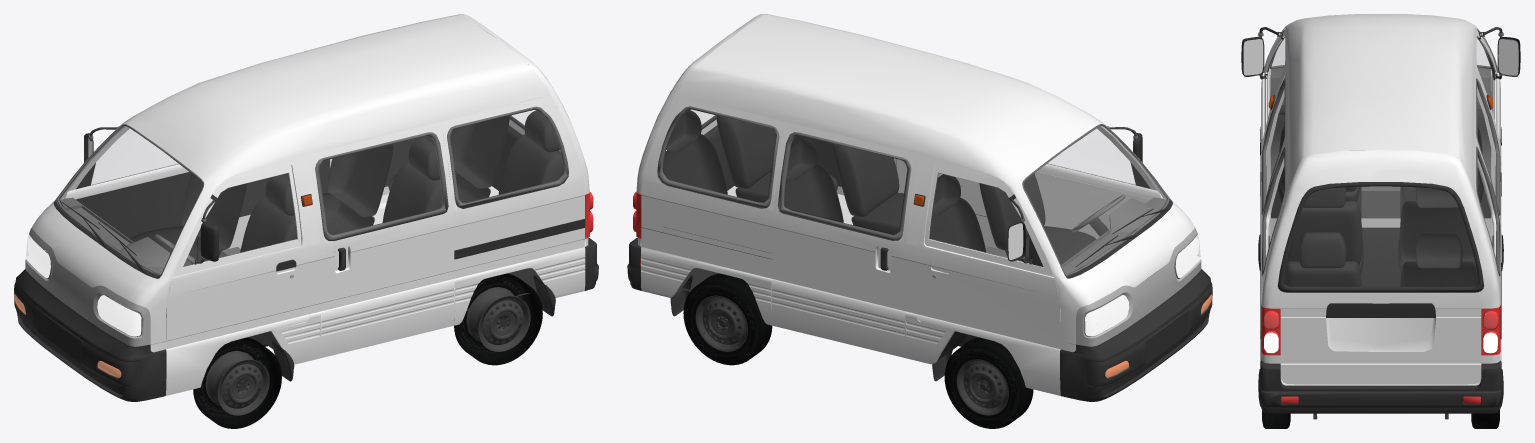
Rendered from chevrolet-damas.glb.
3 renders of one model, left to right at view 1: azimuth 30°, elevation 25°; view 2: azimuth 150°, elevation 25°; view 3: azimuth 270°, elevation 25°, orthographic. The views are drawn at different scales.
Parts seen in each view (by area): view 1: Object_13, Object_12, Object_17, Object_15, Object_19, Object_14, Object_11, Object_22, Object_27, Object_21, Object_25, Object_18 (+2 smaller); view 2: Object_13, Object_12, Object_17, Object_15, Object_19, Object_11, Object_22, Object_21, Object_18, Object_25, Object_23, Object_27 (+3 smaller); view 3: Object_13, Object_12, Object_17, Object_15, Object_19, Object_22, Object_14, Object_18, Object_2, Object_3, Object_23, Object_11 (+2 smaller).
Boxes of the visible parts, x1,y1,x2,y2 form: Object_13: (32,14,588,364); Object_12: (63,14,589,395); Object_17: (26,110,562,335); Object_15: (130,110,563,264); Object_19: (14,115,598,401); Object_14: (76,125,563,238); Object_11: (193,273,542,428); Object_22: (29,106,568,336); Object_27: (205,197,530,415); Object_21: (25,228,293,346); Object_25: (221,300,523,408); Object_18: (56,197,240,336); Object_13: (638,14,1194,364); Object_12: (636,14,1162,395); Object_17: (663,110,1200,335); Object_15: (662,110,1096,264); Object_19: (627,115,1212,401); Object_11: (683,273,1033,428); Object_22: (657,106,1198,336); Object_21: (932,227,1201,346); Object_18: (985,195,1179,336); Object_25: (702,300,1004,408); Object_23: (1085,237,1211,377); Object_27: (695,197,1012,415); Object_13: (1260,14,1501,385); Object_12: (1260,29,1501,384); Object_17: (1265,38,1496,286); Object_15: (1278,126,1483,286); Object_19: (1241,36,1520,413); Object_22: (1258,32,1503,276); Object_14: (1266,166,1495,286); Object_18: (1270,67,1491,217); Object_2: (1243,39,1518,75); Object_3: (1261,305,1500,403); Object_23: (1264,312,1497,352); Object_11: (1262,409,1499,428).
Size of what is drawn, in the model's own units: 8.64 by 4.79 by 4.04.
15 materials, 1 textured.
